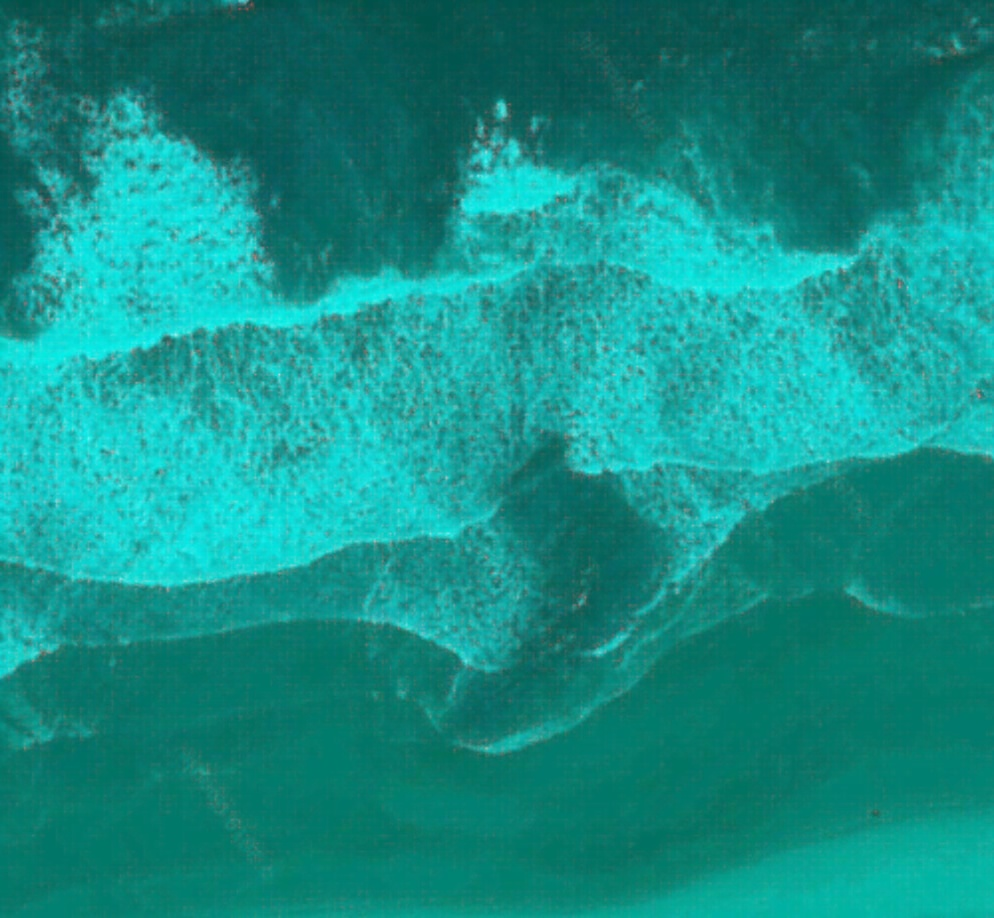rip_current: (379, 162, 717, 699)
